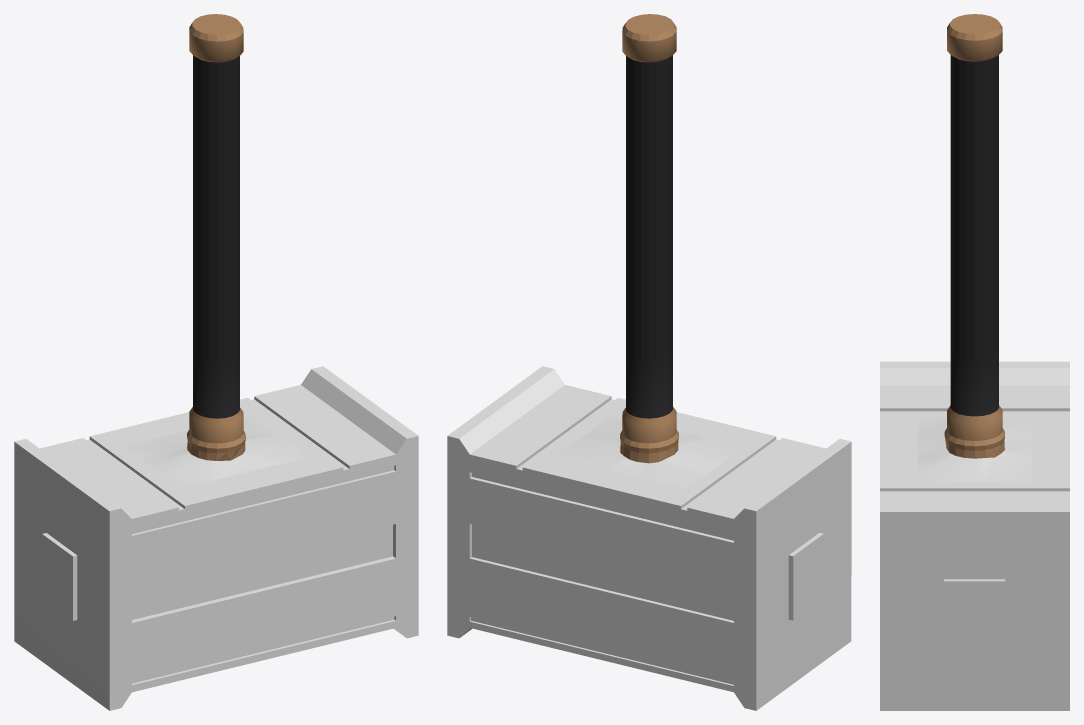
Rendered from B Hammer.fbx.
3 renders of one model, left to right at view 1: azimuth 30°, elevation 25°; view 2: azimuth 150°, elevation 25°; view 3: azimuth 270°, elevation 25°, orthographic.
Parts seen in each view (by area): view 1: Box001; view 2: Box001; view 3: Box001.
Part boxes in pixels (box(x1,y1,x2,y2)): Box001: box(14, 14, 418, 710); Box001: box(447, 14, 851, 710); Box001: box(880, 14, 1069, 710).
Bounding box in the file's own units: 168 × 310 × 87.32.
